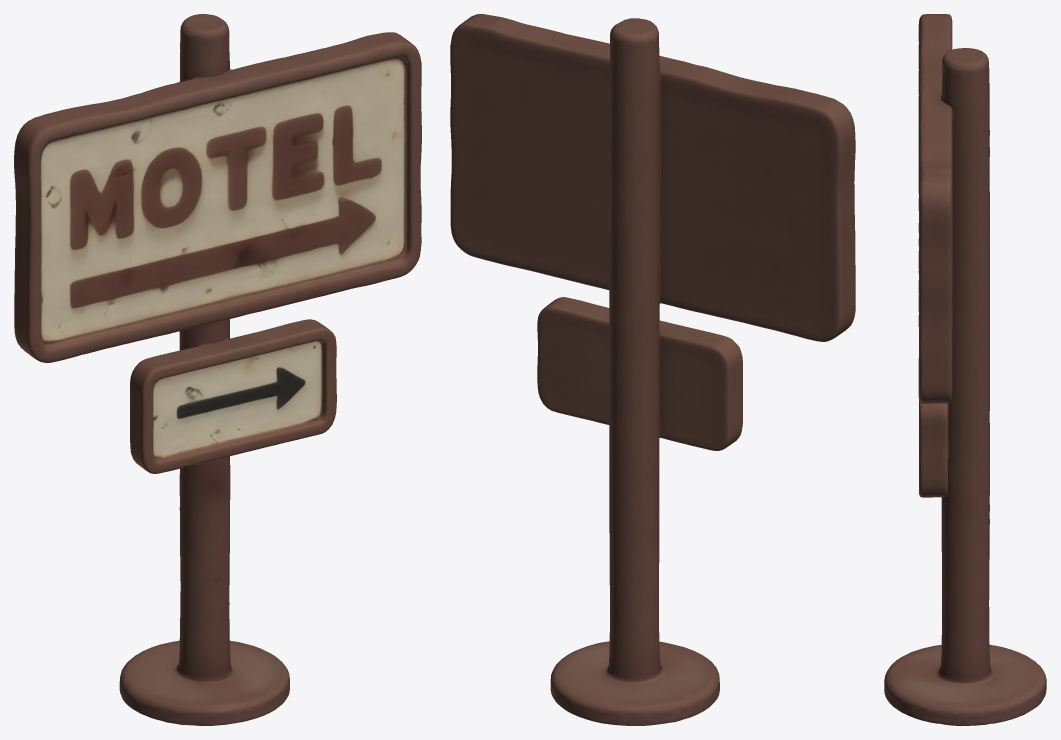
Rendered from motel_sign.glb.
The picture shows the model from 3 angles, left to right: view 1: azimuth 30°, elevation 25°; view 2: azimuth 150°, elevation 25°; view 3: azimuth 270°, elevation 25°; orthographic projection. The views are drawn at different scales.
Parts seen in each view (by area): view 1: Mesh; view 2: Mesh; view 3: Mesh.
Boxes of the visible parts, x1,y1,x2,y2 form: Mesh: (14,14,421,725); Mesh: (450,14,855,725); Mesh: (884,14,1046,725).
Size of the model in its own units: 1.16 by 1.89 by 0.4353.
Materials: 1 (1 with a texture image).
